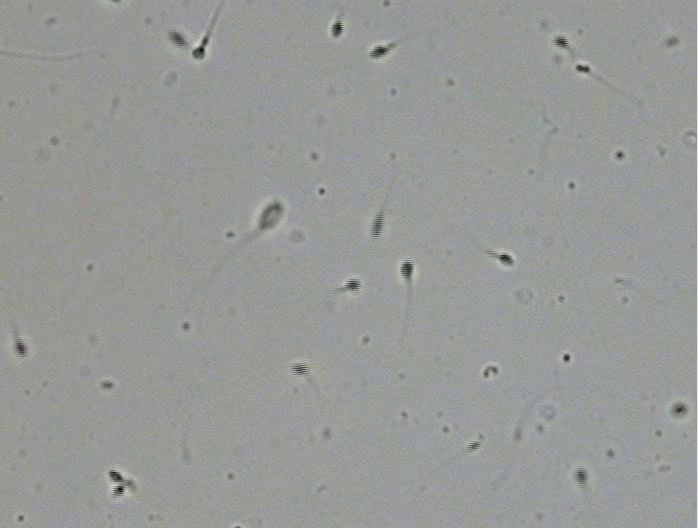S: (259, 201, 283, 229), (371, 213, 384, 239), (369, 45, 390, 59), (290, 362, 310, 376), (400, 259, 414, 279), (170, 31, 185, 47), (497, 253, 515, 266), (574, 468, 588, 484), (345, 278, 361, 292), (552, 35, 569, 48), (192, 45, 206, 60), (108, 469, 123, 483), (14, 340, 27, 356), (331, 22, 344, 38), (111, 486, 125, 497), (575, 63, 590, 73), (674, 404, 687, 415)
